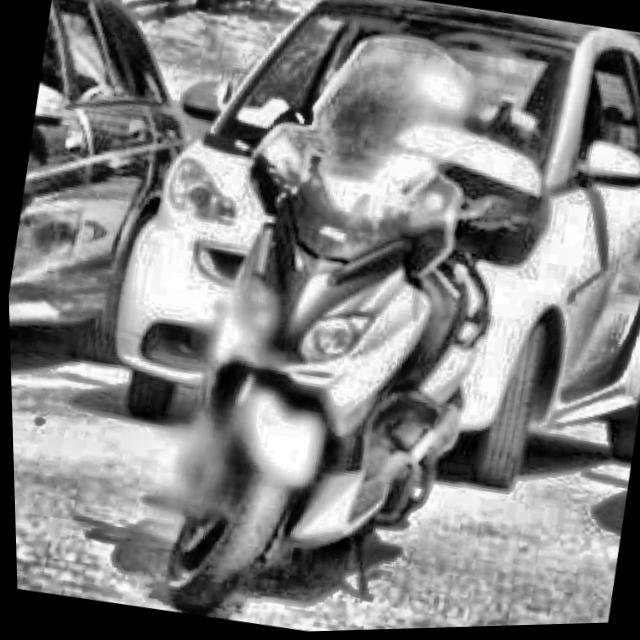motorcycle: (65, 0, 640, 638)
